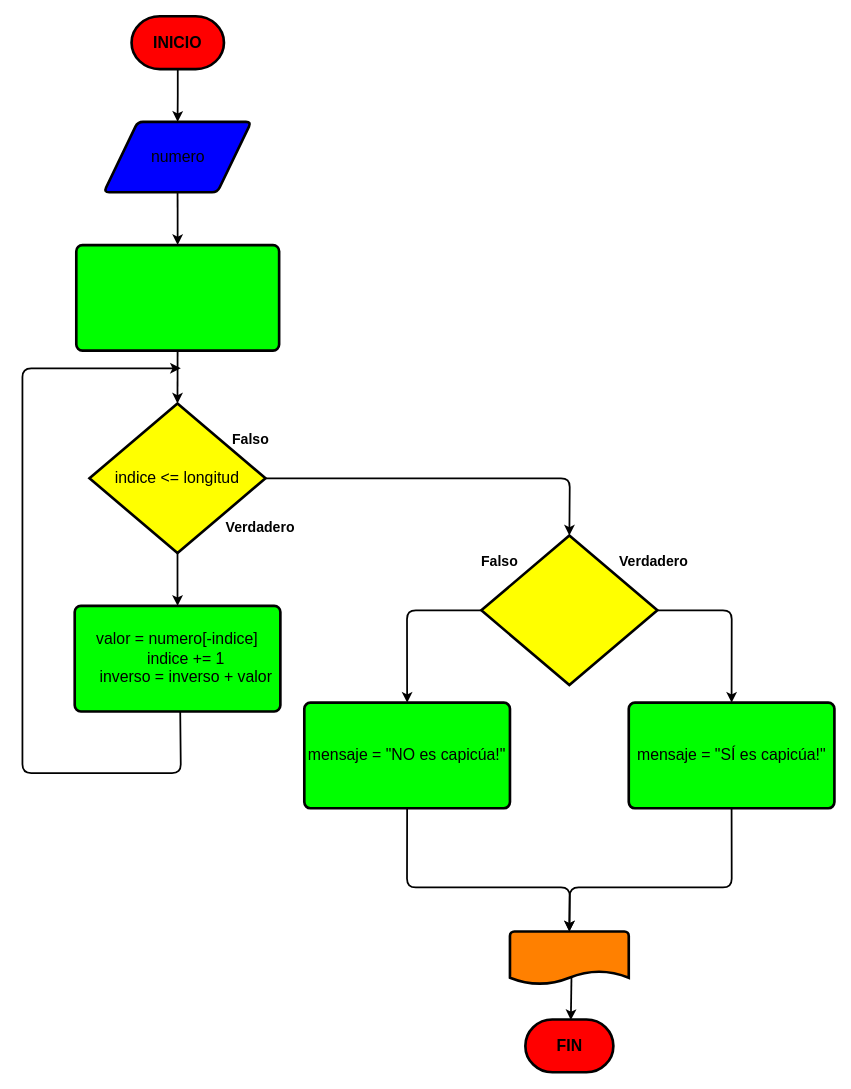
The diagram is 851 pixels wide and 1089 high, and some of its shapes have lost their labels. Each missing label, with the box of its shape:
longitud = len(numero) indice = 1 inverso = " ": (75, 243, 280, 352)
mensaje: (508, 930, 630, 985)
numero == inverso: (480, 534, 658, 686)
